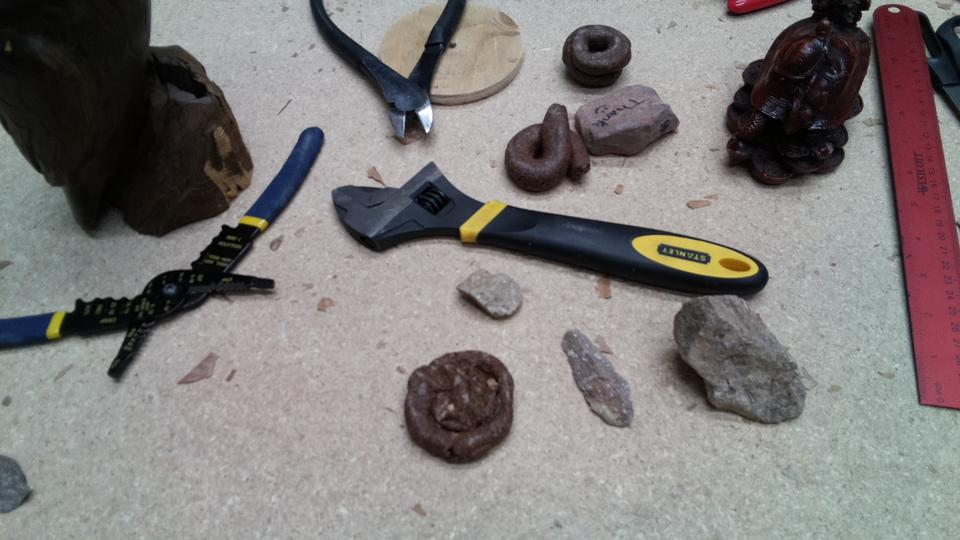poop: (401, 347, 518, 470), (503, 101, 591, 195), (559, 22, 635, 92)
